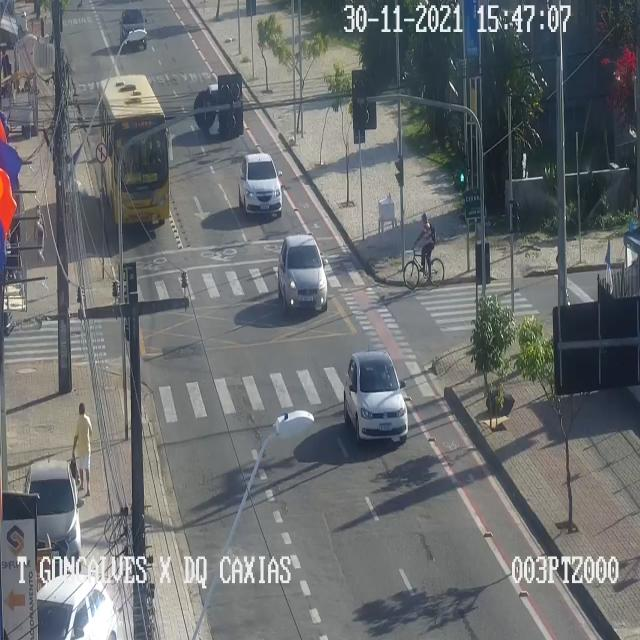Bus: (99, 75, 169, 223)
Car: (24, 460, 80, 570), (343, 351, 408, 441), (36, 574, 116, 639), (277, 234, 327, 309), (238, 152, 282, 215), (205, 72, 242, 142), (120, 7, 146, 48)
